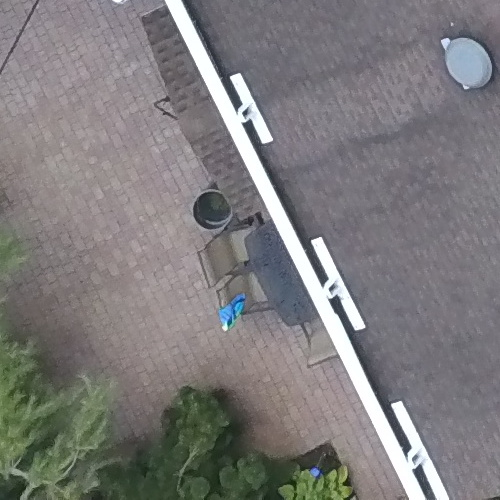trash bin: (179, 178, 244, 237)
